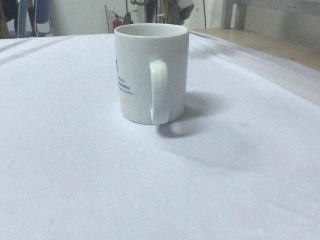cup: (114, 21, 193, 127)
